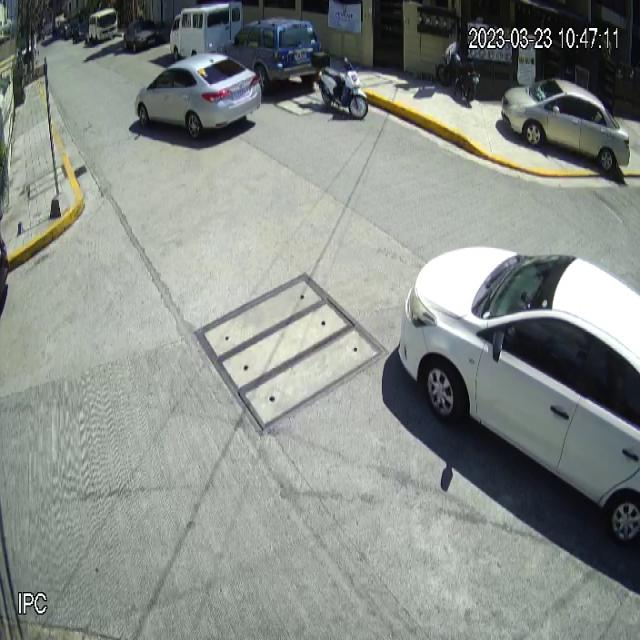Car: (398, 244, 640, 544), (501, 76, 630, 170), (134, 53, 262, 141)
Motorcycle: (311, 51, 368, 120)
Van: (169, 0, 244, 57)
